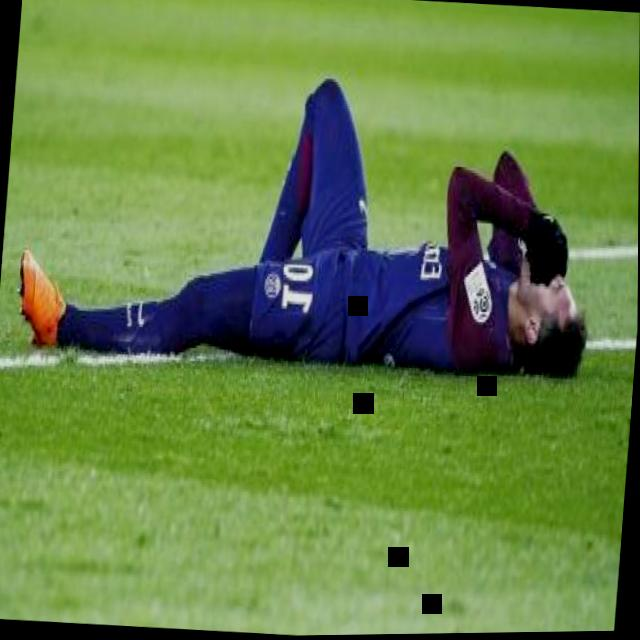Fall-Detected: (5, 34, 632, 394)
